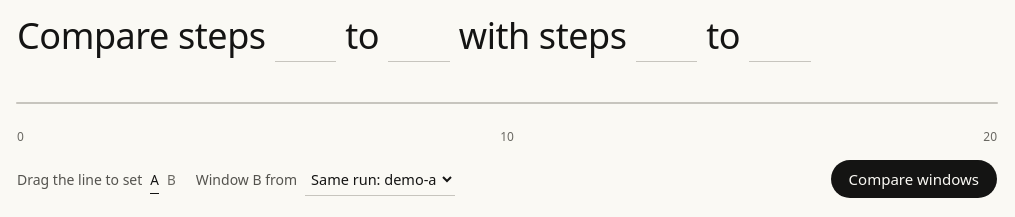
timeline › uses the union axis and snaps side B to the comparison run
The image size is (1015, 217).
expect the text "Drag the line to set" is shown: met, box [17,170,142,189]
Select "demo-b" in the dropdown named "comparison run": (380, 179) [305,162,455,196]
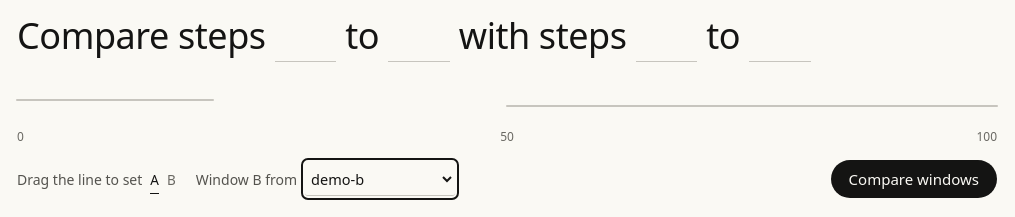
expect the text "100" is shown: met, box [976,128,997,145]
Click the button "B": (171, 182) [167,170,176,194]
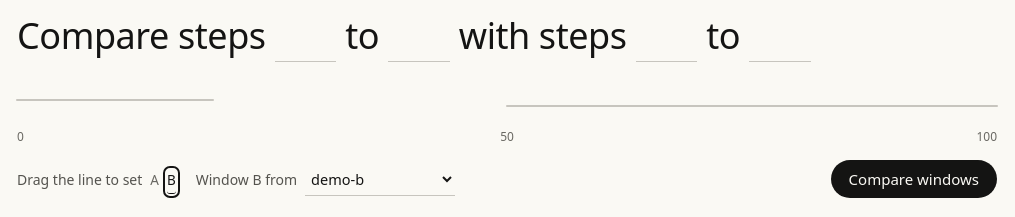
Press the mouse on the icon: (507, 103) [17,78,997,128]
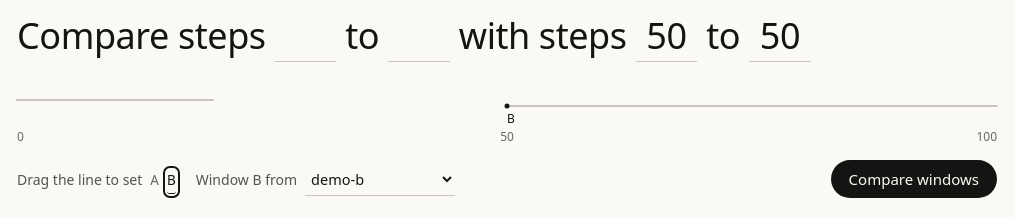
expect the field named "A start" is empty: met, box [275,12,336,62]
expect the field named "B start" holds "50": met, box [636,12,697,62]
